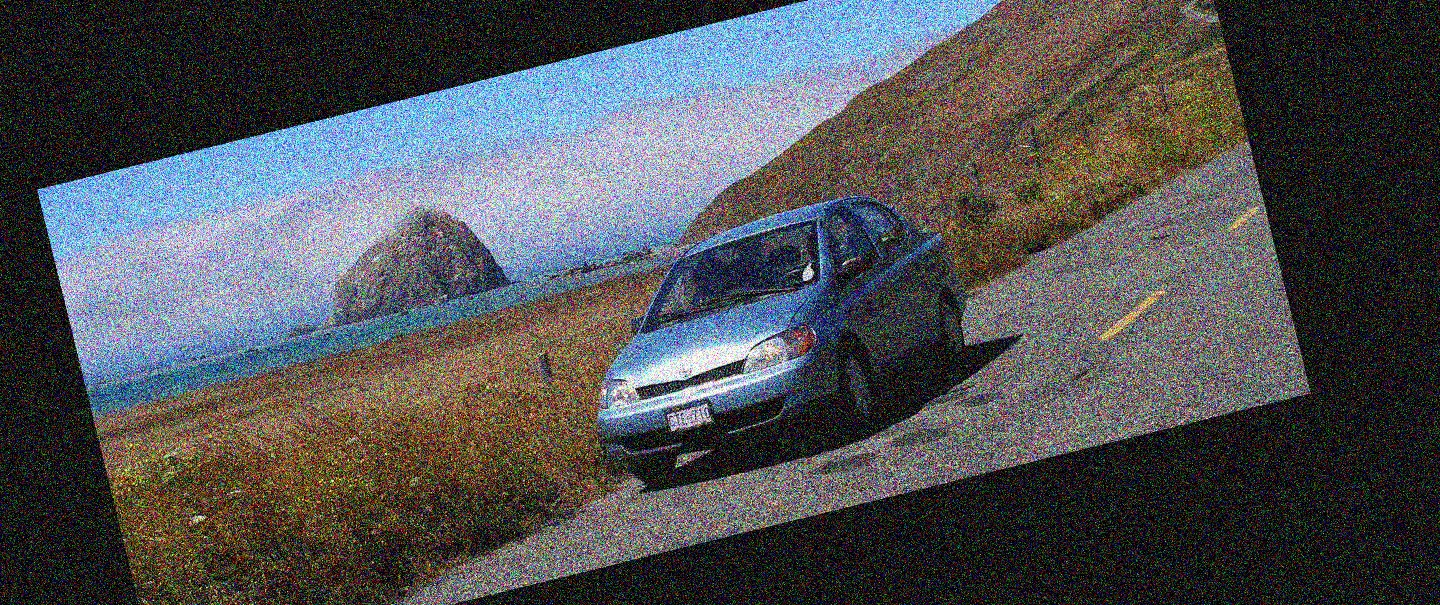car: (496, 135, 1047, 530)
